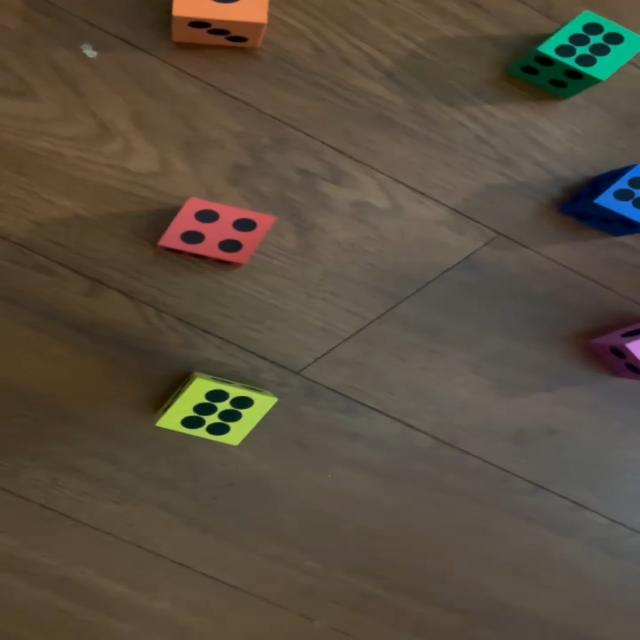blue_block: (560, 165, 640, 237)
red_block: (156, 372, 280, 447), (158, 198, 279, 264)
